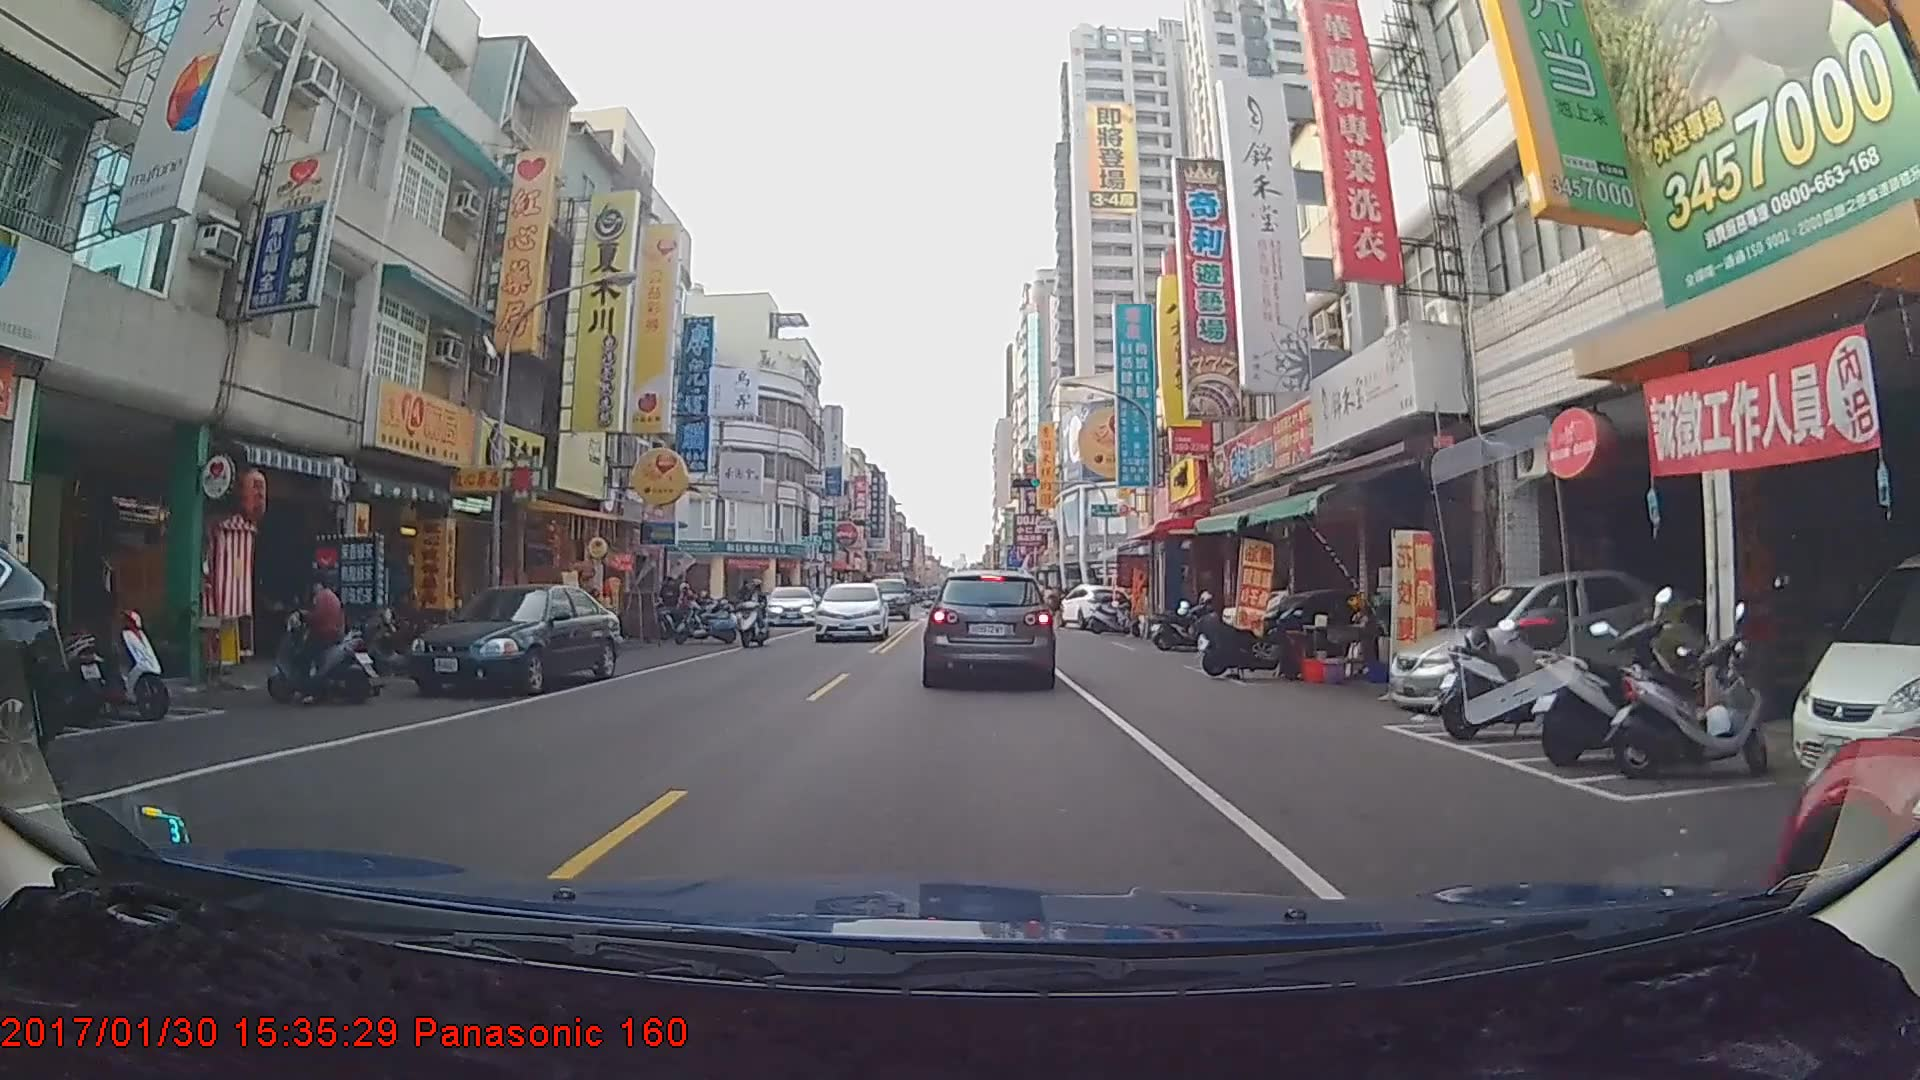pedestrian: (1047, 587, 1067, 635)
rider: (266, 570, 385, 713), (735, 583, 775, 651)
vehicle: (1769, 559, 1920, 998), (407, 586, 625, 694), (922, 567, 1055, 686), (814, 577, 886, 640), (1056, 582, 1136, 632), (764, 583, 818, 625), (863, 577, 909, 621)
